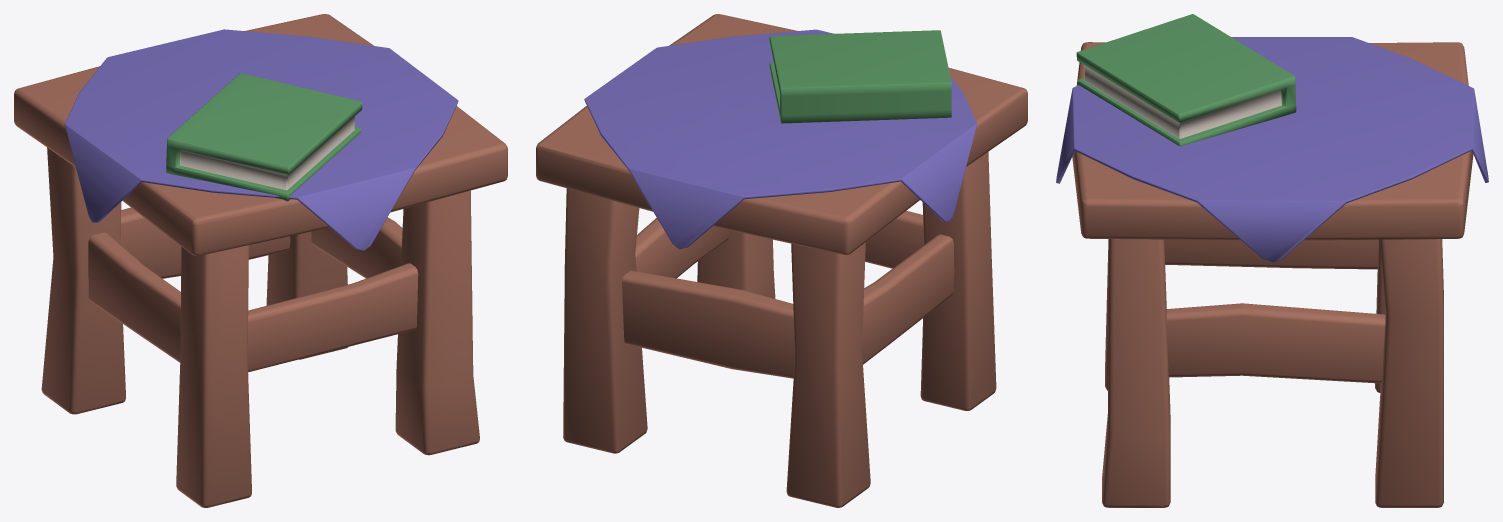
The model's file is SmallTable.fbx.
3 views of the same model, side by side, from view 1: azimuth 30°, elevation 25°; view 2: azimuth 150°, elevation 25°; view 3: azimuth 270°, elevation 25° (orthographic). The views are drawn at different scales.
Parts seen in each view (by area): view 1: Cube.064; view 2: Cube.064; view 3: Cube.064.
Boxes of the visible parts, x1,y1,x2,y2 form: Cube.064: [14, 14, 507, 507]; Cube.064: [536, 14, 1027, 507]; Cube.064: [1056, 14, 1488, 507].
Size of the model in its own units: 86.27 by 83.2 by 91.37.
